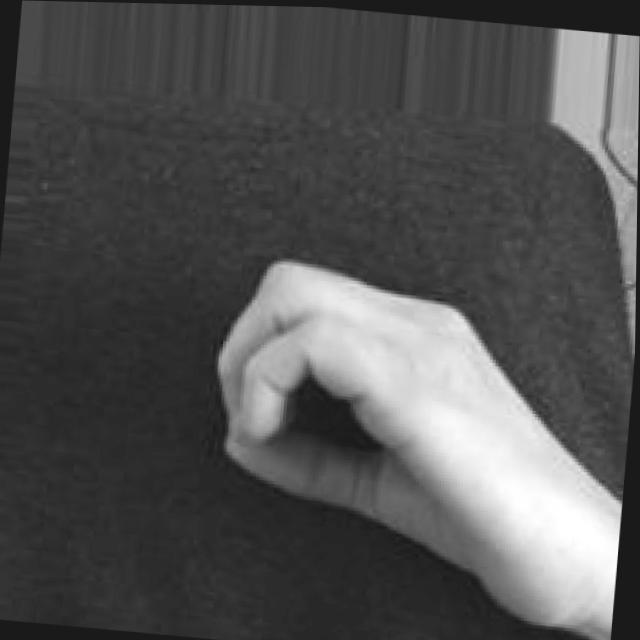O: (191, 246, 572, 627)
